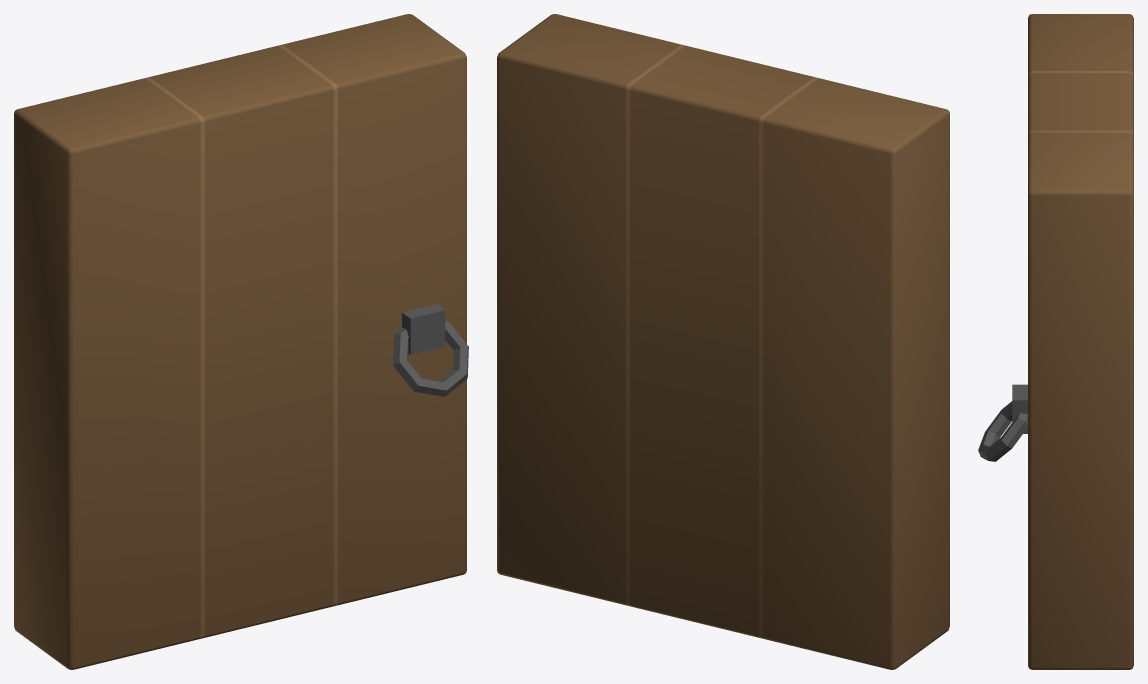
Rendered from Door_03.fbx.
3 renders of one model, left to right at view 1: azimuth 30°, elevation 25°; view 2: azimuth 150°, elevation 25°; view 3: azimuth 270°, elevation 25°, orthographic. The views are drawn at different scales.
Visible parts, largest first — view 1: Door_03; view 2: Door_03; view 3: Door_03.
Part boxes in pixels (left/top/right/bottom): Door_03: left=14, top=14, right=468, bottom=669; Door_03: left=497, top=14, right=949, bottom=669; Door_03: left=978, top=14, right=1133, bottom=669.
Size of the model in its own units: 1.6 by 2 by 0.5878.
